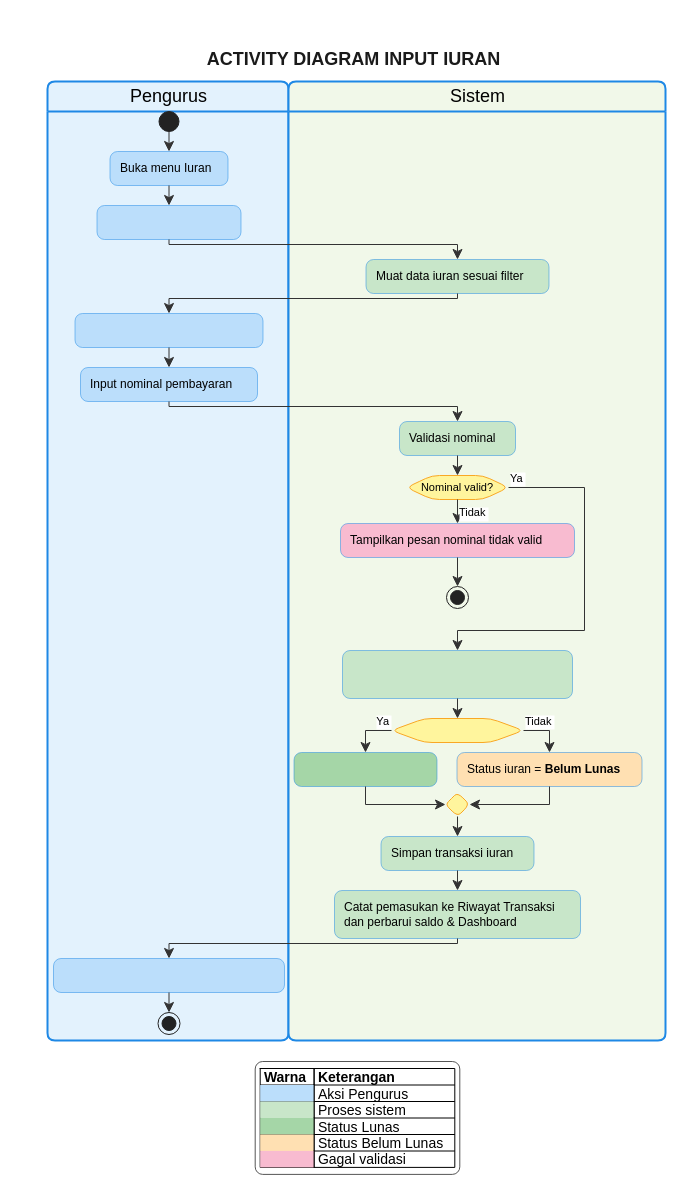
This 683x1192 diagram has some shape labels left out. Each missing label, with the centre of its shape:
Bandingkan dengan nominal default: [457,674]
Nominal >= default?: [457,730]
Pilih bulan dan tahun: [168,222]
Pilih warga (Kepala Keluarga): [168,330]
Status iuran = Lunas: [365,769]
Terima konfirmasi "Iuran tersimpan": [168,975]
